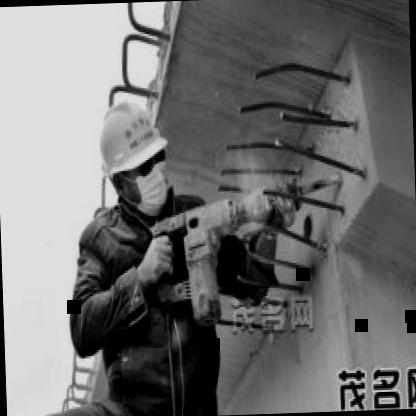helmet: (90, 83, 172, 220)
